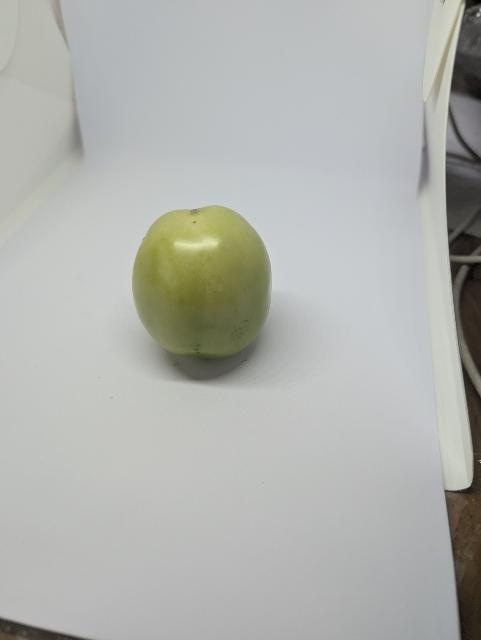green: (130, 204, 276, 361)
